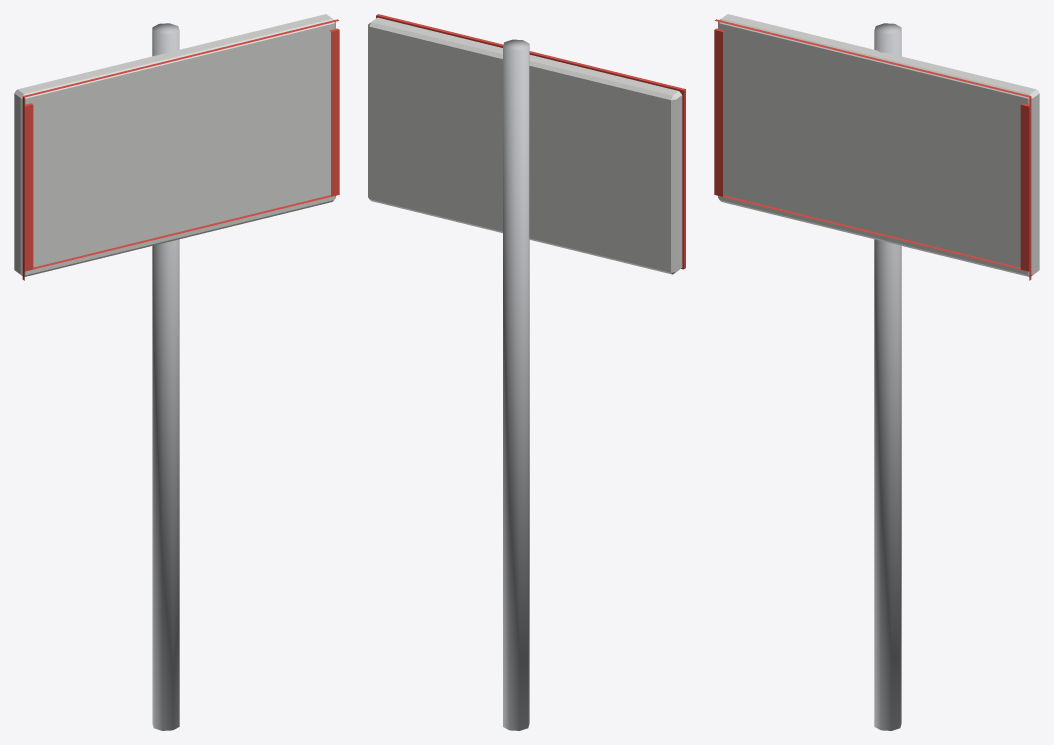
The model's file is pool_sign.glb.
3 renders of one model, left to right at view 1: azimuth 30°, elevation 25°; view 2: azimuth 150°, elevation 25°; view 3: azimuth 330°, elevation 25°, orthographic. The views are drawn at different scales.
Visible parts, largest first — view 1: pool_sign; view 2: pool_sign; view 3: pool_sign.
Part boxes in pixels (x1=…): pool_sign: x1=14, y1=14, x2=339, y2=730; pool_sign: x1=368, y1=14, x2=685, y2=730; pool_sign: x1=714, y1=14, x2=1039, y2=730.
Bounding box in the file's own units: 0.9 × 1.9 × 0.115.
